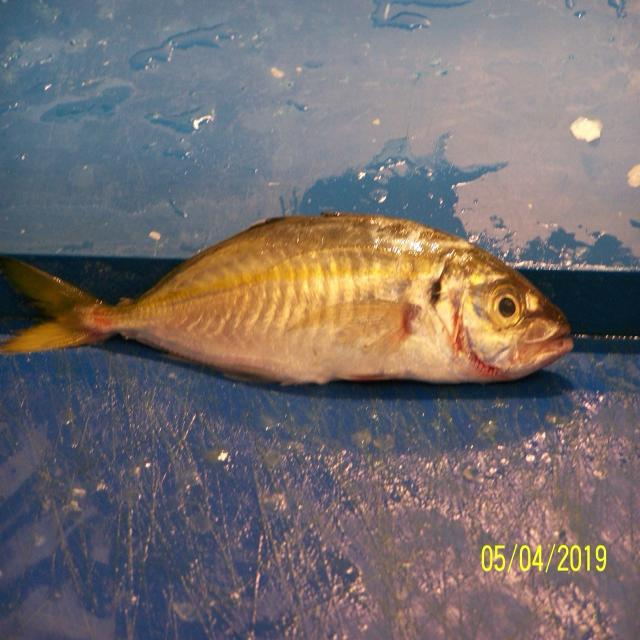Hourse-Mackerel-istavrit-: (0, 213, 576, 388)
